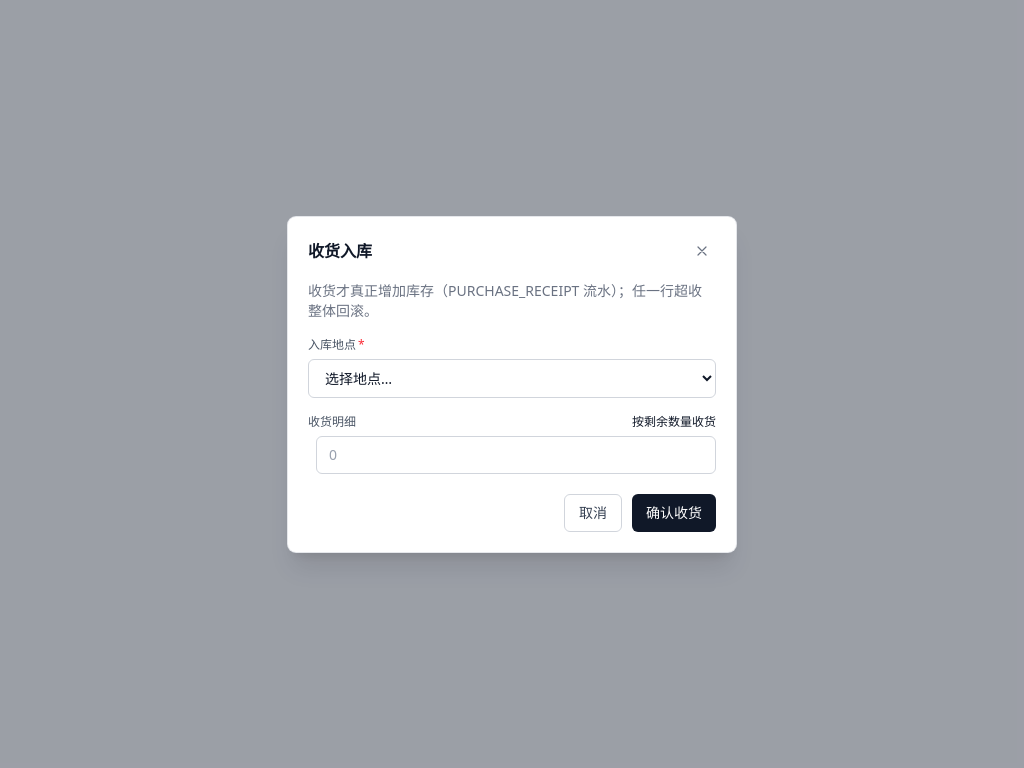
Test: ReceiveGoodsModal 收货表单（Sprint 7 §44 部分收货） › 后端 409（并发超收）原文展示
Select "总仓" in the dropdown named "入库地点": (512, 378) [308, 358, 716, 398]
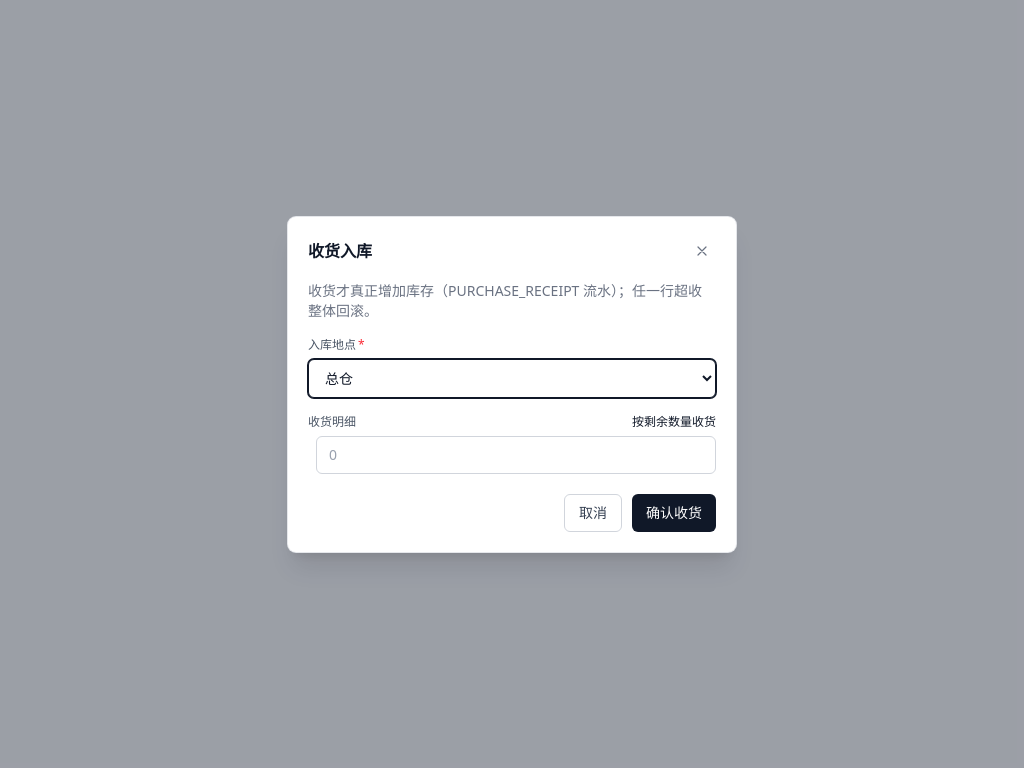
In the number field named "矿泉水 收货数量": (516, 454) [316, 436, 716, 474], type "40"
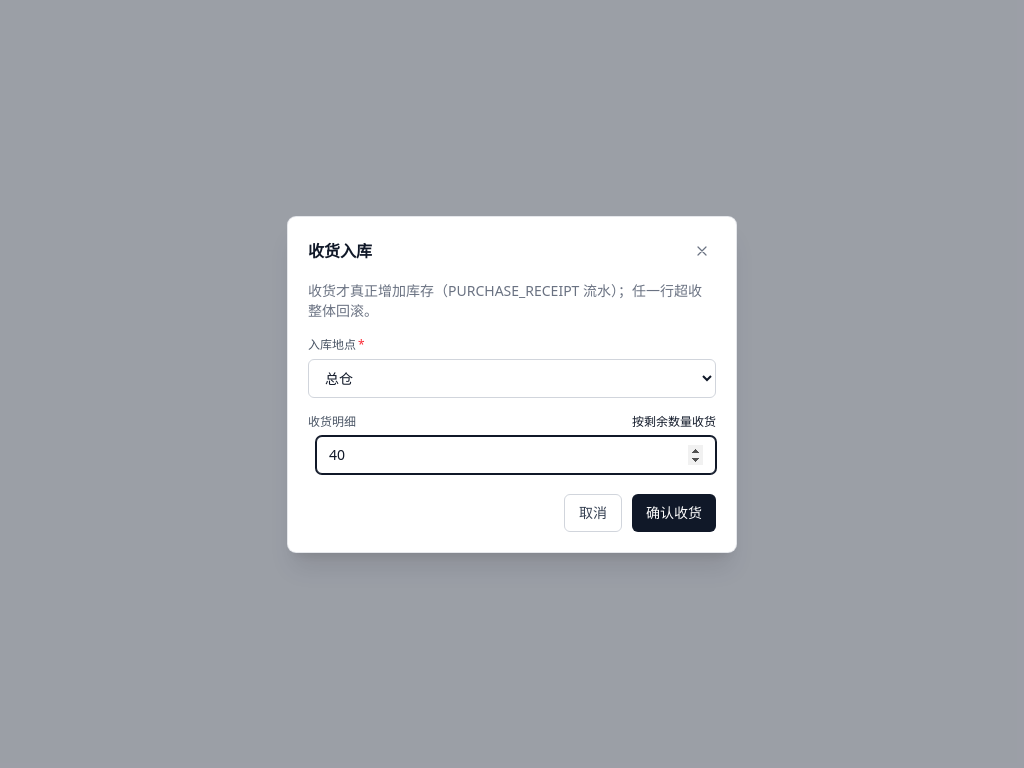
Click the button "确认收货": click(674, 512) [632, 494, 716, 532]
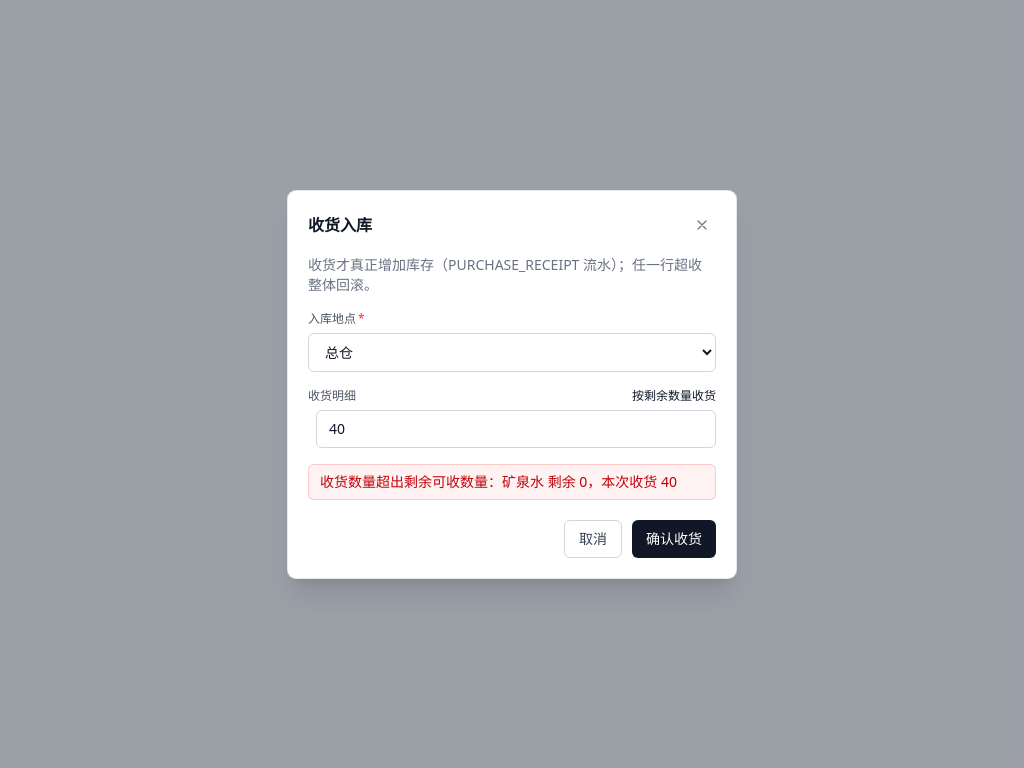
Expected: the message shows "收货数量超出剩余可收数量", [320, 472, 677, 490]
